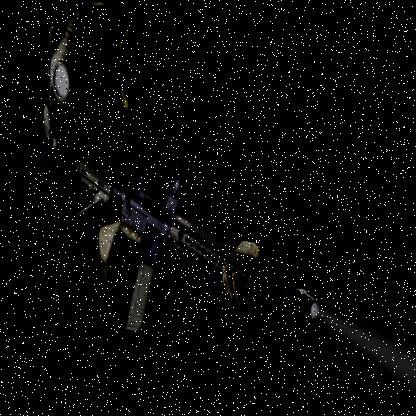rifle: (65, 131, 325, 367)
